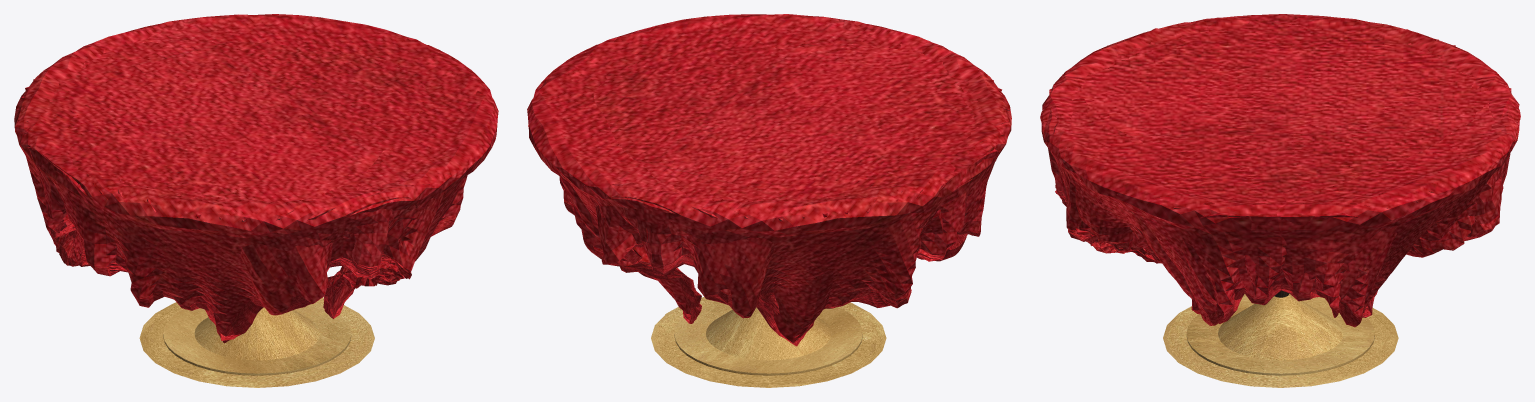
Rendered from tablefull.obj.
The picture shows the model from 3 angles, left to right: view 1: azimuth 30°, elevation 25°; view 2: azimuth 150°, elevation 25°; view 3: azimuth 270°, elevation 25°; orthographic projection.
Size of the model in its own units: 406 by 215 by 408.
Materials: 3 (3 with a texture image).
